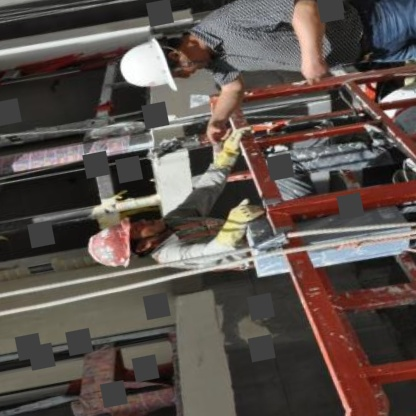red: (72, 207, 151, 279)
white: (106, 24, 189, 106)
